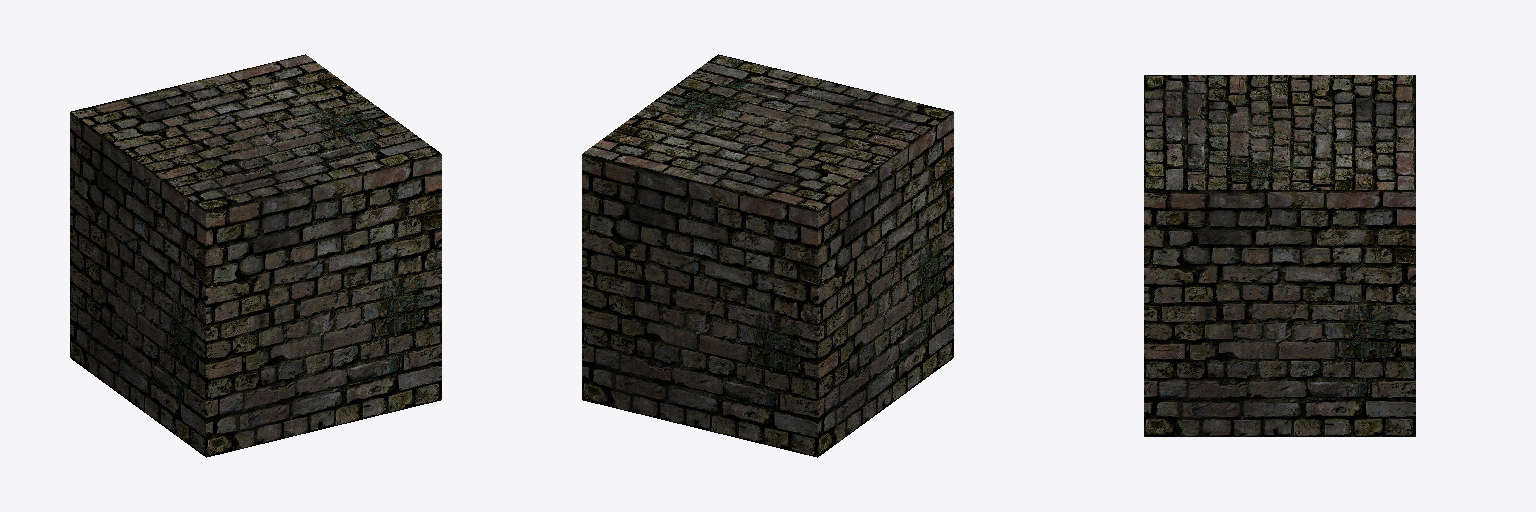
The picture shows the model from 3 angles: view 1: azimuth 30°, elevation 25°; view 2: azimuth 150°, elevation 25°; view 3: azimuth 270°, elevation 25°; orthographic projection.
Visible parts, largest first — view 1: block; view 2: block; view 3: block.
Boxes of the visible parts, box(x1,y1,x2,y2) form: block: box(70, 54, 441, 457); block: box(582, 54, 953, 457); block: box(1144, 75, 1415, 436).
Bounding box in the file's own units: 50 × 50 × 50.
Materials: 1 (1 with a texture image).